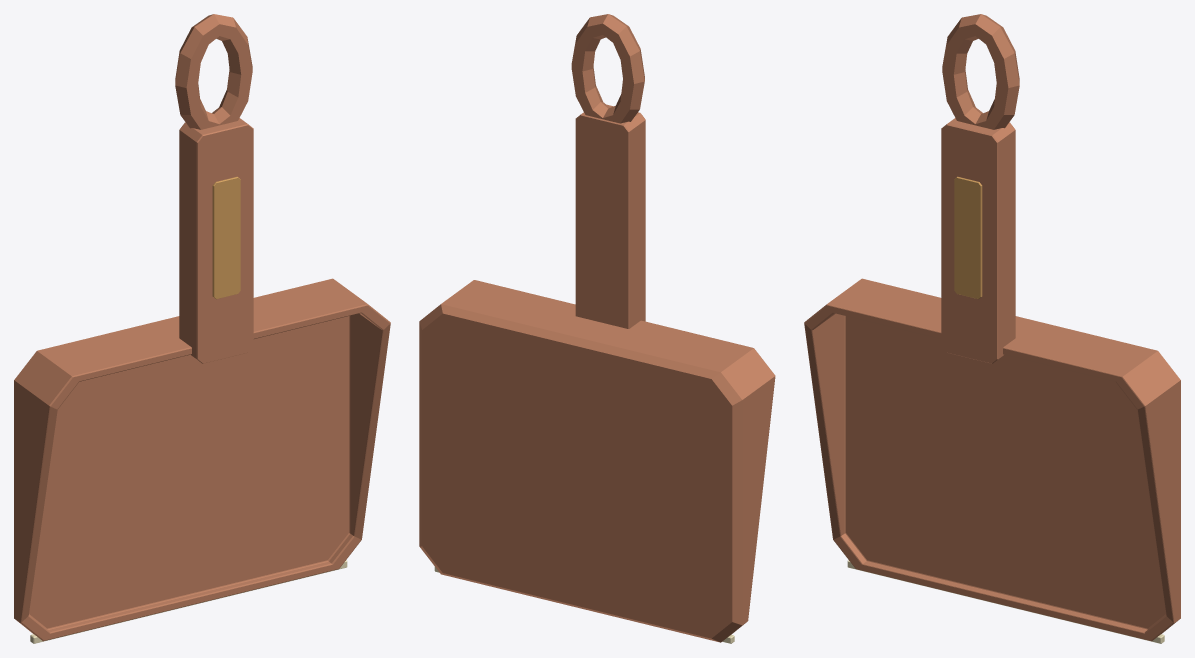
File: dustpan.glb
3 renders of one model, left to right at view 1: azimuth 30°, elevation 25°; view 2: azimuth 150°, elevation 25°; view 3: azimuth 330°, elevation 25°, orthographic. The views are drawn at different scales.
Visible parts, largest first — view 1: dustpan; view 2: dustpan; view 3: dustpan.
Part boxes in pixels (bbox=[...]): dustpan: bbox=[14, 14, 390, 643]; dustpan: bbox=[419, 14, 775, 643]; dustpan: bbox=[804, 14, 1180, 643].
Bounding box in the file's own units: 0.15 × 0.2555 × 0.0353.
